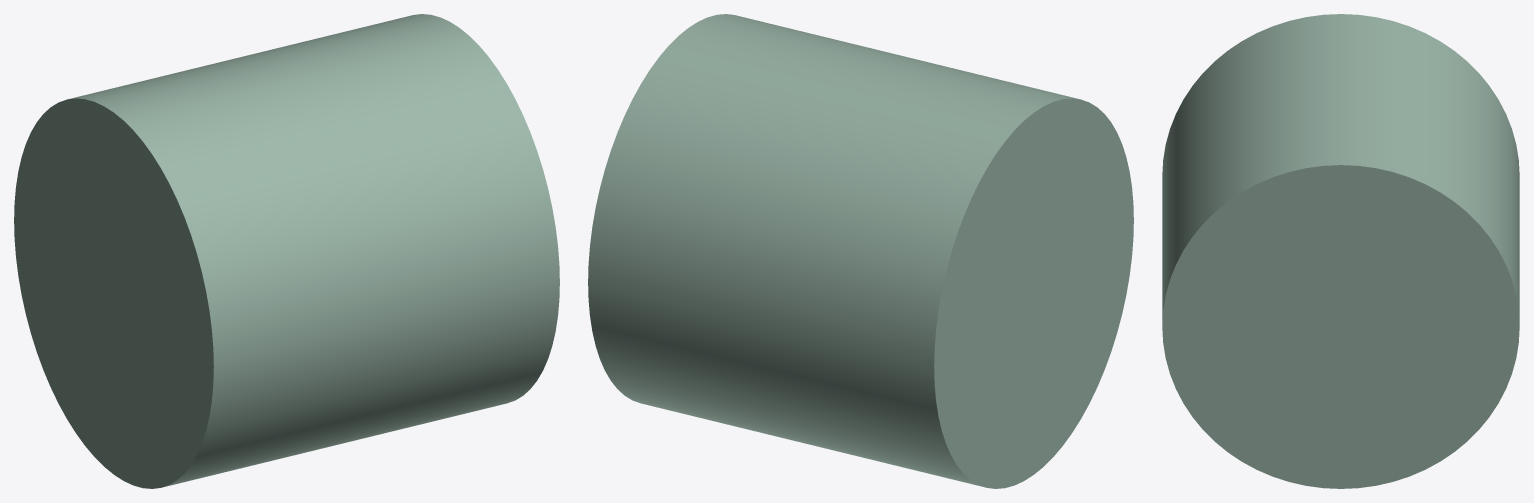
The picture shows the model from 3 angles, left to right: view 1: azimuth 30°, elevation 25°; view 2: azimuth 150°, elevation 25°; view 3: azimuth 270°, elevation 25°; orthographic projection. The views are drawn at different scales.
Parts seen in each view (by area): view 1: Cylinder.002; view 2: Cylinder.002; view 3: Cylinder.002.
Boxes of the visible parts, bbox=[...] form: Cylinder.002: bbox=[14, 14, 559, 488]; Cylinder.002: bbox=[588, 14, 1133, 488]; Cylinder.002: bbox=[1162, 14, 1519, 488].
Bounding box in the file's own units: 200 × 200 × 200.
